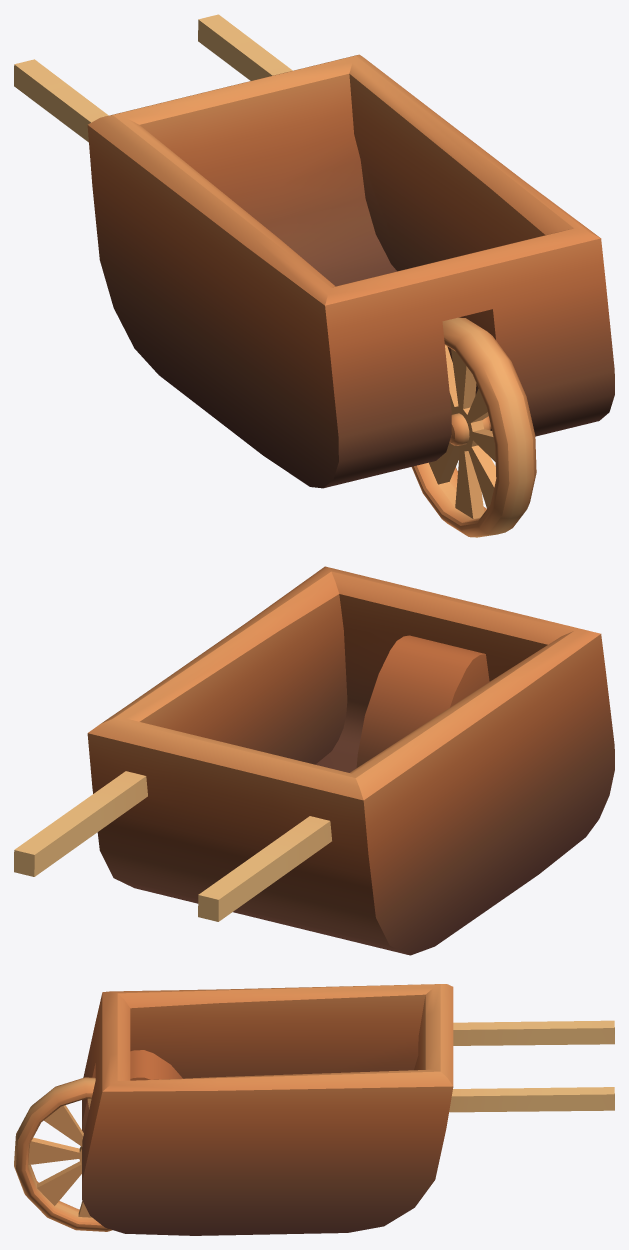
The model's file is WheelBarrow.fbx.
The picture shows the model from 3 angles, top to bottom: view 1: azimuth 30°, elevation 25°; view 2: azimuth 150°, elevation 25°; view 3: azimuth 270°, elevation 25°; orthographic projection. The views are drawn at different scales.
Parts seen in each view (by area): view 1: Wheelbarrow; view 2: Wheelbarrow; view 3: Wheelbarrow.
Boxes of the visible parts, x1=… form: Wheelbarrow: x1=14, y1=14, x2=614, y2=537; Wheelbarrow: x1=14, y1=566, x2=614, y2=955; Wheelbarrow: x1=14, y1=984, x2=614, y2=1235.
Bounding box in the file's own units: 0.3509 × 0.331 × 0.8951.
